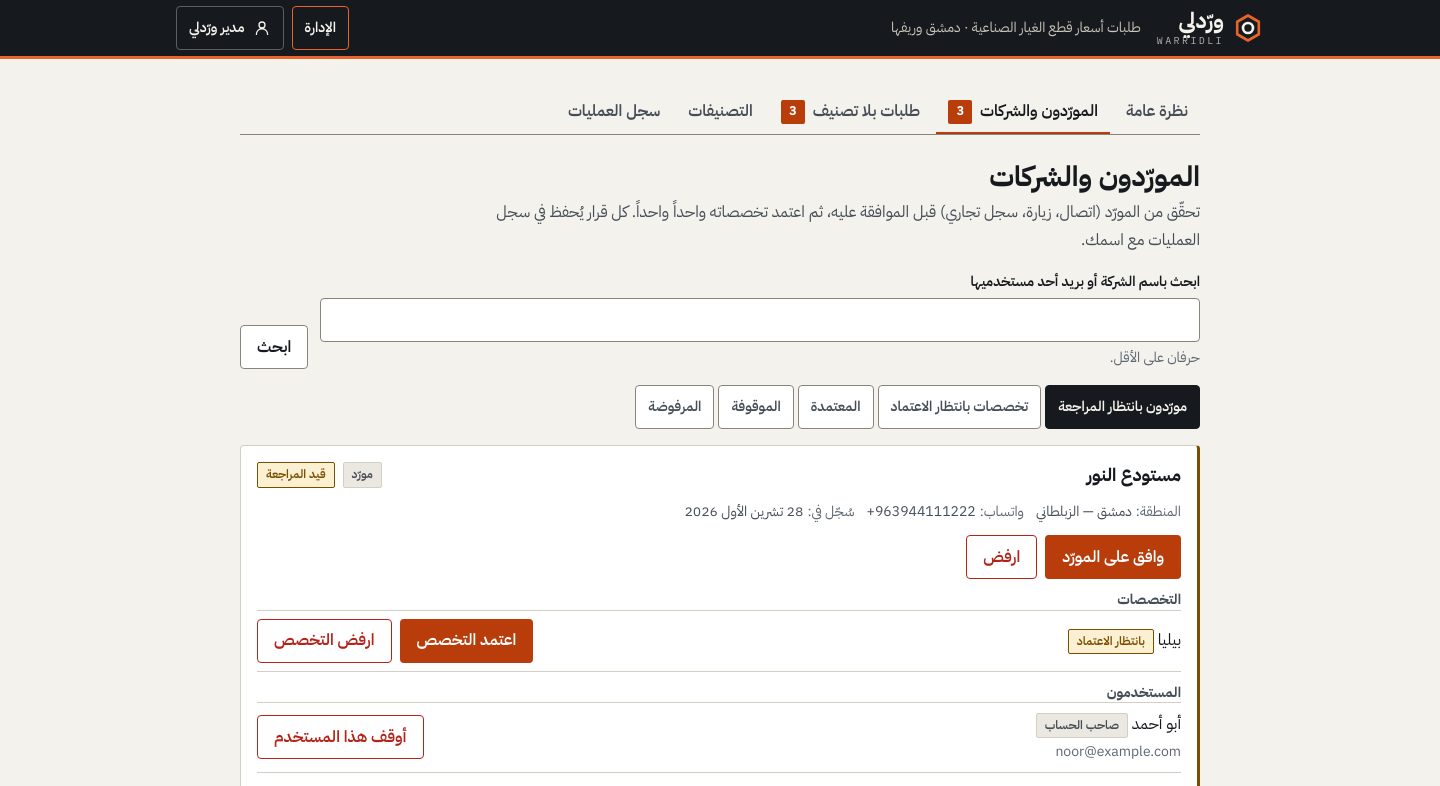
supplier vetting › approves a pending supplier after confirmation and reports success
Click the button "وافق على المورّد" at (1113, 557), box [1045,535,1181,579]
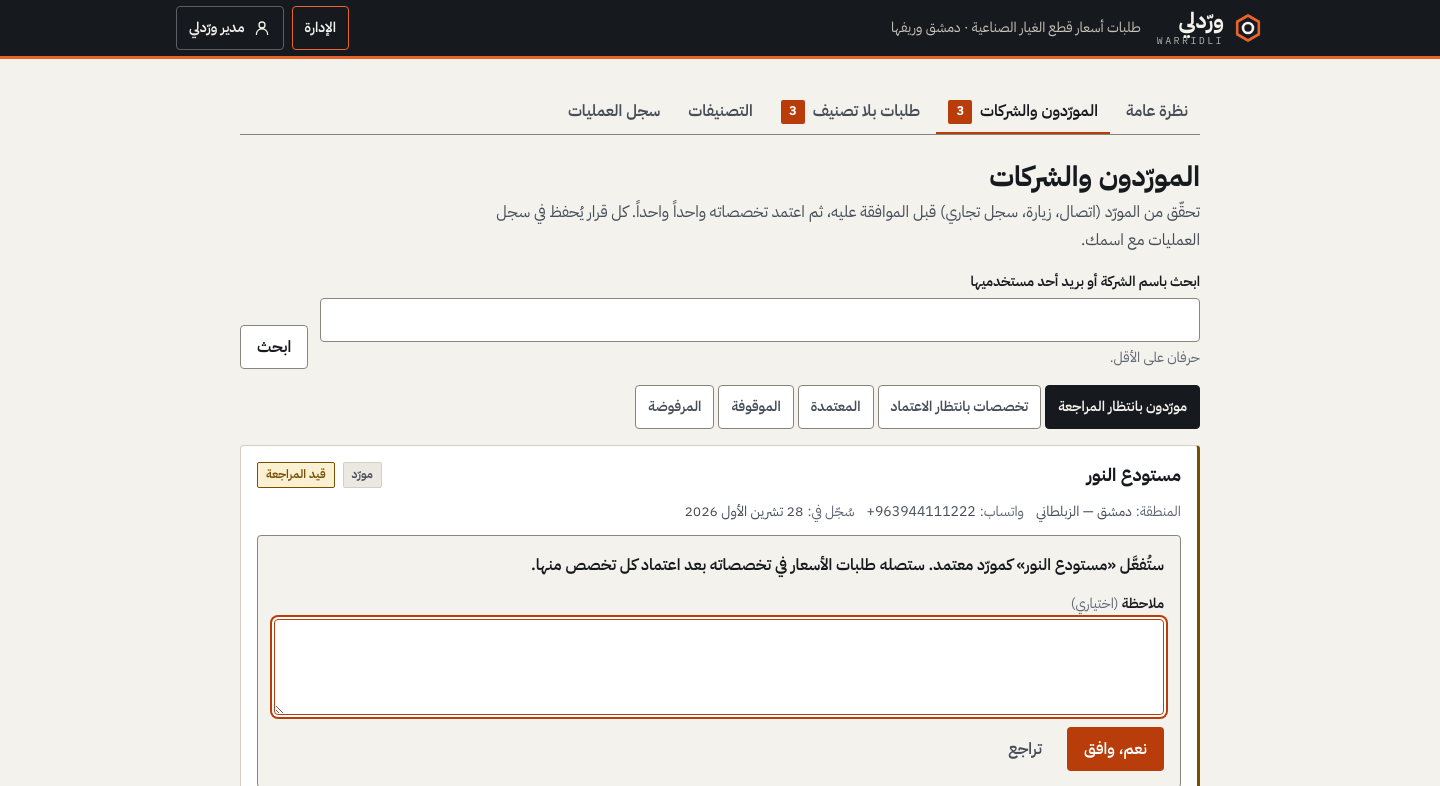
Result: the text "ستُفعَّل «مستودع النور» كمورّد معتمد" is shown at [531,553,1164,577]
Click the button "نعم، وافق" at (1116, 749), box [1067,727,1164,771]
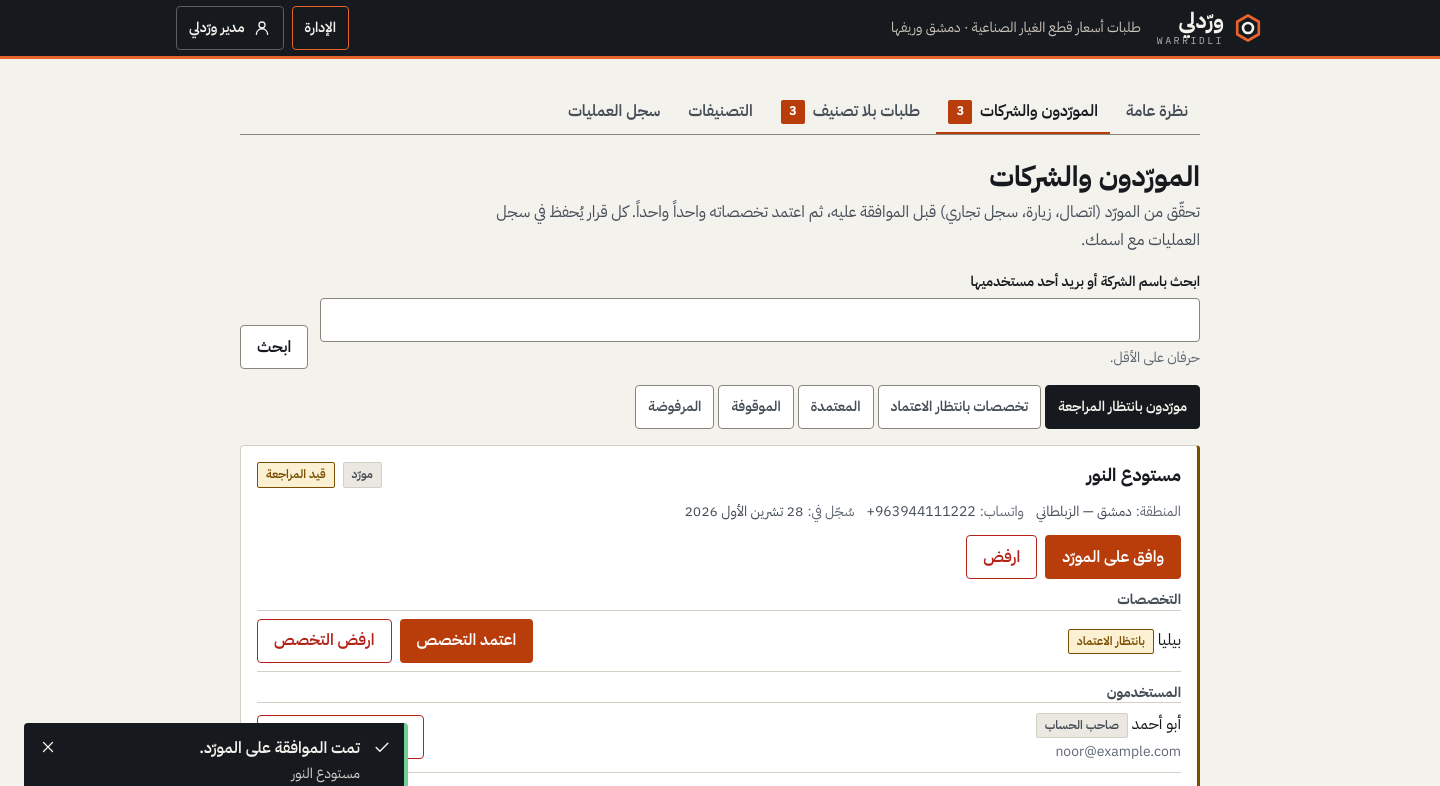
Result: the text "تمت الموافقة على المورّد." is shown at [199,736,360,760]
